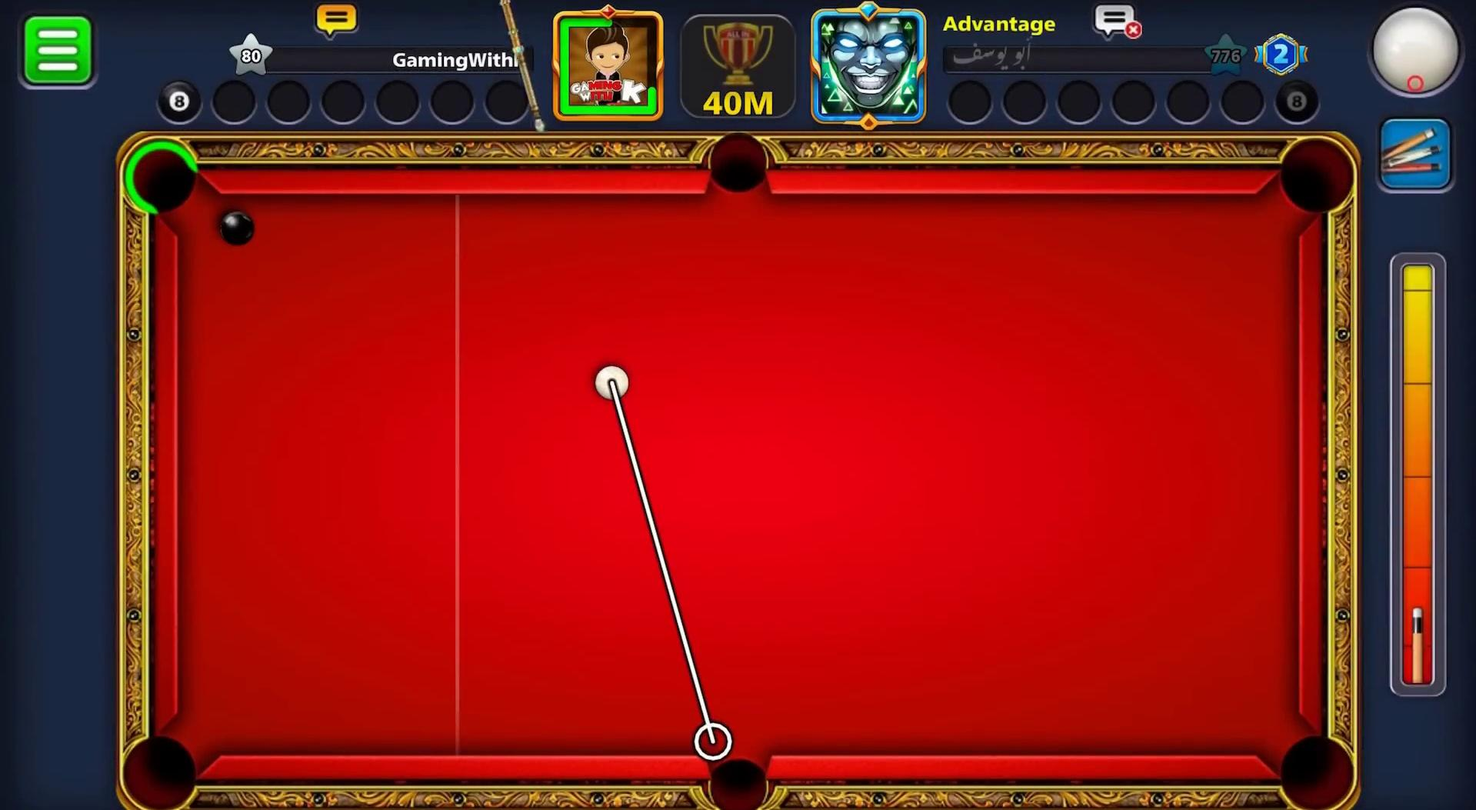Ball: (217, 211, 257, 247)
Force: (1390, 255, 1451, 712)
Guideline: (603, 380, 722, 751)
Hole: (1267, 118, 1366, 228), (1254, 719, 1373, 809), (122, 733, 198, 808), (125, 138, 196, 215), (707, 132, 768, 192), (705, 755, 770, 809)
Play_Area: (191, 193, 1294, 752)
Spin: (1360, 0, 1475, 111)
White: (591, 361, 632, 401)
